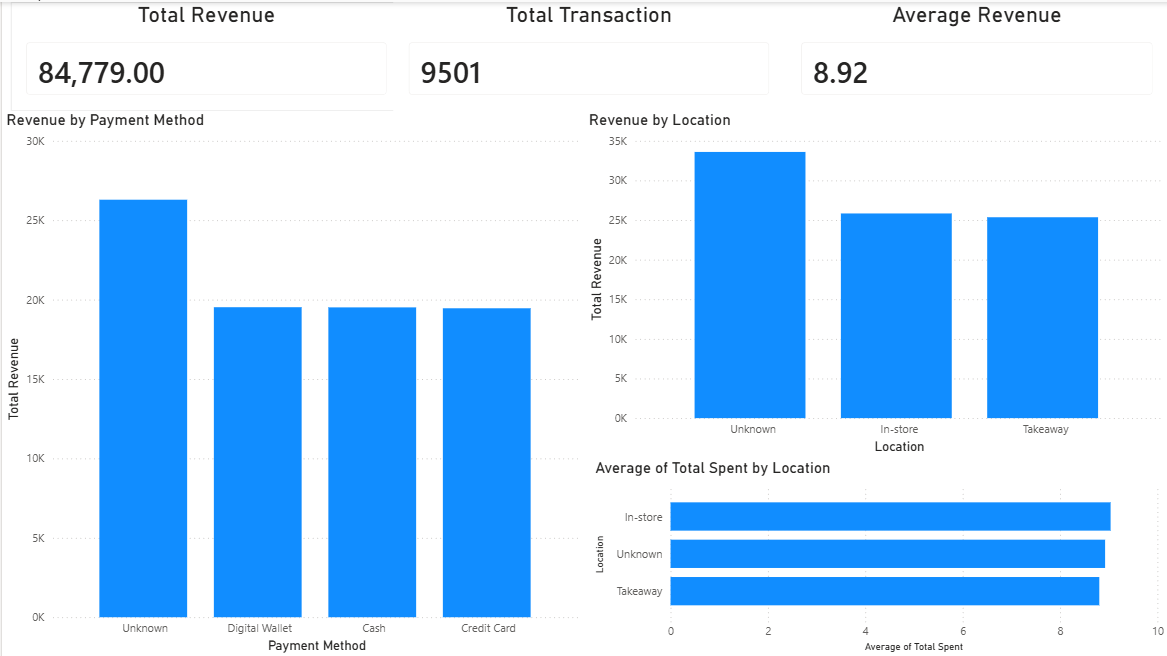

The dashboard page shown, as its layout file describes it:
{"tool":"powerbi","page":{"name":"Page 2","canvas":[1280,720],"ordinal":1},"visuals":[{"type":"cardVisual","title":"Total Revenue","fields":{"Data":["Sum(cafe_sales_cleaned.Total Spent)"]},"box":[10,0,430,120],"z":0},{"type":"cardVisual","title":"Total Transaction","fields":{"Data":["cafe_sales_cleaned.Total Transaction"]},"box":[430,0,430,120],"z":1},{"type":"cardVisual","title":"Average Revenue","fields":{"Data":["Avg(cafe_sales_cleaned.Total Spent)"]},"box":[860,0,420,120],"z":2},{"type":"columnChart","title":"Revenue by Payment Method","fields":{"Y":["Sum(cafe_sales_cleaned.Total Spent)"],"Category":["cafe_sales_cleaned.Payment Method"]},"box":[0,120,640,600],"z":3},{"type":"columnChart","title":"Revenue by Location","fields":{"Y":["Sum(cafe_sales_cleaned.Total Spent)"],"Category":["cafe_sales_cleaned.Location"]},"box":[640,120,640,381.4],"z":4},{"type":"barChart","fields":{"Category":["cafe_sales_cleaned.Location"],"Y":["Avg(cafe_sales_cleaned.Total Spent)"]},"box":[645.7,501.4,634.3,218.6],"z":5}]}

Visuals, with their boxes in screenshot pixels (x1, y1, x2, y2), scaled from the page's 1280x720 canvas onto the 1167x656 screenshot:
"Total Revenue" cardVisual: Rect(9, 0, 401, 109)
"Total Transaction" cardVisual: Rect(392, 0, 784, 109)
"Average Revenue" cardVisual: Rect(784, 0, 1166, 109)
"Revenue by Payment Method" columnChart: Rect(0, 109, 584, 655)
"Revenue by Location" columnChart: Rect(584, 109, 1166, 457)
barChart - cafe_sales_cleaned.Location x Avg(cafe_sales_cleaned.Total Spent): Rect(589, 457, 1166, 655)
